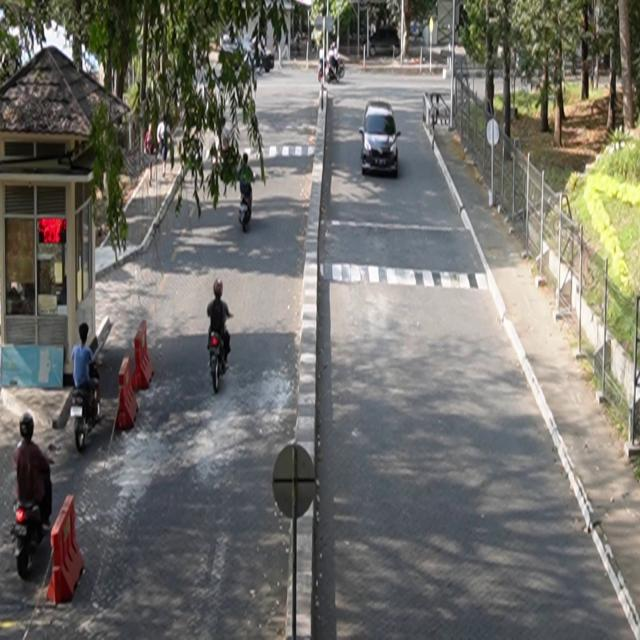car: (359, 100, 402, 178)
